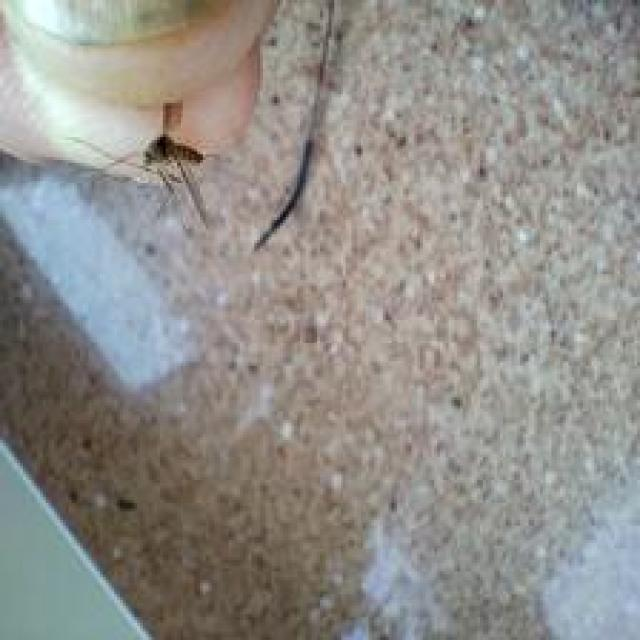Culex: (67, 97, 222, 232)
